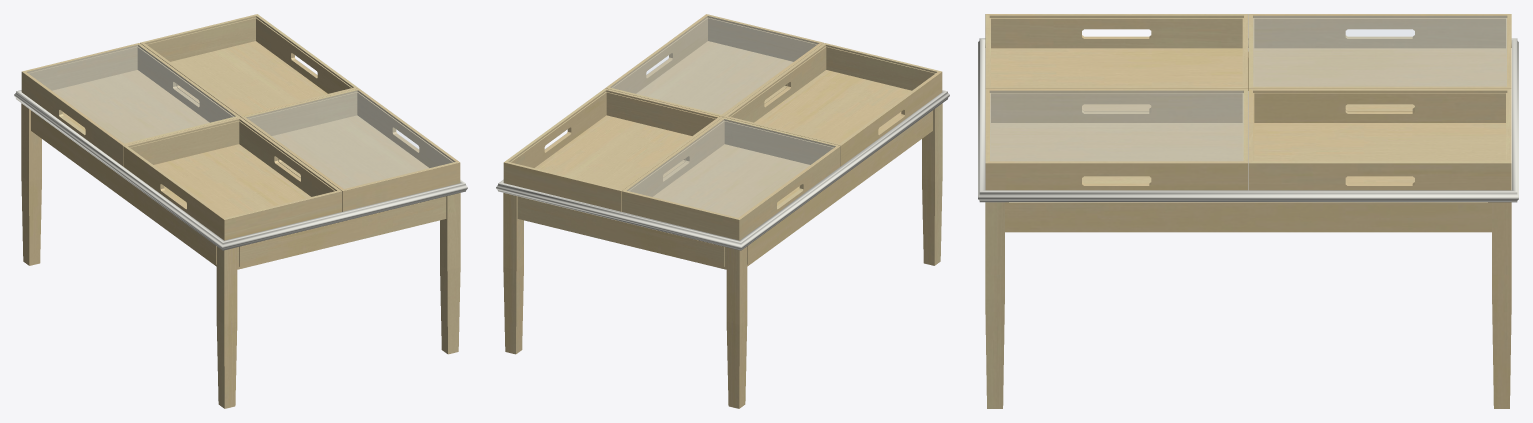
File: sweethome3d-scopia-table-87.glb
3 renders of one model, left to right at view 1: azimuth 30°, elevation 25°; view 2: azimuth 150°, elevation 25°; view 3: azimuth 270°, elevation 25°, orthographic. The views are drawn at different scales.
Parts seen in each view (by area): view 1: Living_r_table_Cube, box_table3_Plane.013, box_table4_Plane.014, box_table1_Plane.001, box_table2_Plane.012, glass_plane4_Plane.008, glass_plane_Plane.005, Living_r_table_mod_Cube.001; view 2: Living_r_table_Cube, box_table1_Plane.001, box_table2_Plane.012, box_table3_Plane.013, box_table4_Plane.014, glass_plane_Plane.005, glass_plane4_Plane.008, Living_r_table_mod_Cube.001; view 3: box_table4_Plane.014, box_table2_Plane.012, Living_r_table_Cube, box_table3_Plane.013, box_table1_Plane.001, glass_plane_Plane.005, glass_plane4_Plane.008, Living_r_table_mod_Cube.001.
Boxes of the visible parts, <box> form: Living_r_table_Cube: <box>21,103,460,408</box>; box_table3_Plane.013: <box>123,117,341,240</box>; box_table4_Plane.014: <box>241,88,460,211</box>; box_table1_Plane.001: <box>21,43,240,166</box>; box_table2_Plane.012: <box>140,14,358,116</box>; glass_plane4_Plane.008: <box>247,90,454,188</box>; glass_plane_Plane.005: <box>27,45,234,143</box>; Living_r_table_mod_Cube.001: <box>14,59,467,250</box>; Living_r_table_Cube: <box>503,103,942,408</box>; box_table1_Plane.001: <box>622,117,840,240</box>; box_table2_Plane.012: <box>503,88,722,211</box>; box_table3_Plane.013: <box>723,43,942,166</box>; box_table4_Plane.014: <box>605,14,823,116</box>; glass_plane_Plane.005: <box>627,119,835,217</box>; glass_plane4_Plane.008: <box>611,16,818,114</box>; Living_r_table_mod_Cube.001: <box>496,59,949,250</box>; box_table4_Plane.014: <box>985,89,1248,190</box>; box_table2_Plane.012: <box>1248,89,1511,190</box>; Living_r_table_Cube: <box>985,52,1511,408</box>; box_table3_Plane.013: <box>985,14,1248,111</box>; box_table1_Plane.001: <box>1248,14,1511,111</box>; glass_plane_Plane.005: <box>1253,16,1506,86</box>; glass_plane4_Plane.008: <box>990,91,1243,160</box>; Living_r_table_mod_Cube.001: <box>978,38,1518,202</box>.
Size of the model in its own units: 72.55 by 53.62 by 107.
3 materials, 1 textured.
